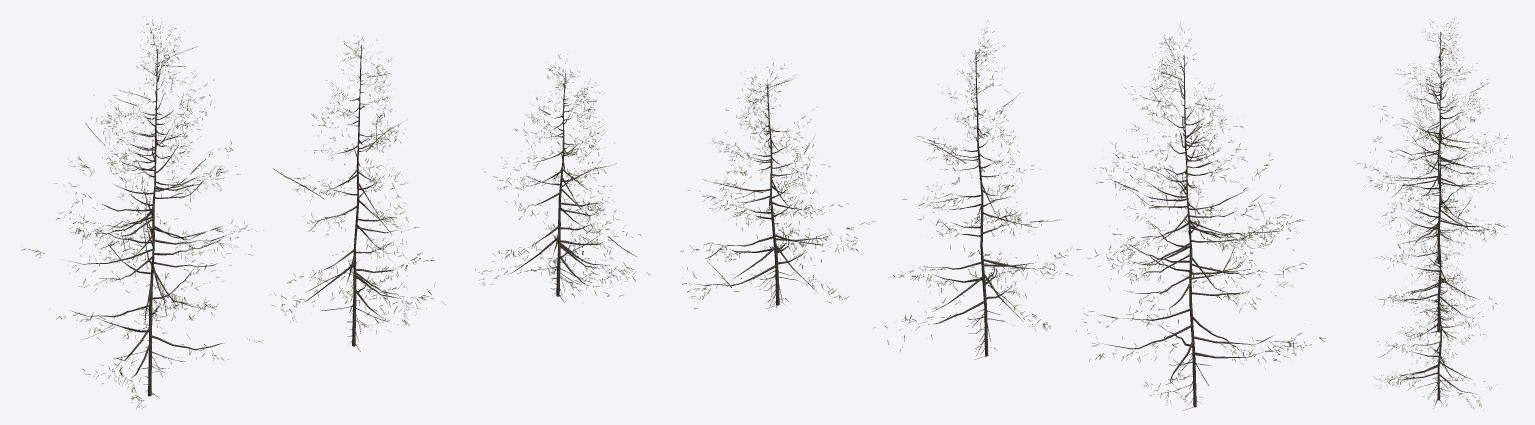
File: fir_far.glb
3 views of the same model, side by side, from view 1: azimuth 30°, elevation 25°; view 2: azimuth 150°, elevation 25°; view 3: azimuth 270°, elevation 25° (orthographic). The views are drawn at different scales.
Visible parts, largest first — view 1: fir_sapling_medium_a_LOD0; view 2: fir_sapling_medium_a_LOD0; view 3: fir_sapling_medium_a_LOD0.
Part boxes in pixels (bbox=[...]): fir_sapling_medium_a_LOD0: bbox=[21, 16, 650, 408]; fir_sapling_medium_a_LOD0: bbox=[681, 20, 1325, 410]; fir_sapling_medium_a_LOD0: bbox=[1356, 17, 1512, 410].
Size of the model in its own units: 14.61 by 8.76 by 5.16.
3 materials, 3 textured.
